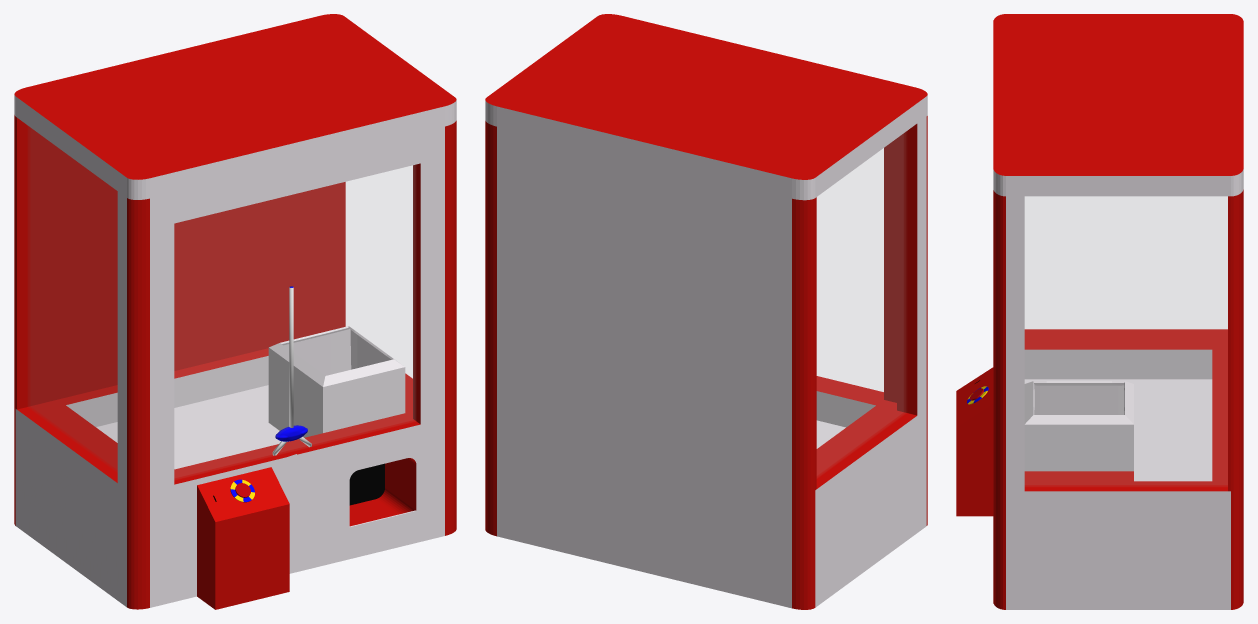
Rendered from Machine.fbx.
The picture shows the model from 3 angles, left to right: view 1: azimuth 30°, elevation 25°; view 2: azimuth 150°, elevation 25°; view 3: azimuth 270°, elevation 25°; orthographic projection.
Parts seen in each view (by area): view 1: Machine, Pince; view 2: Machine; view 3: Machine.
Boxes of the visible parts, <box> form: Machine: <box>14,14,456,609</box>; Pince: <box>272,286,307,455</box>; Machine: <box>485,14,927,609</box>; Machine: <box>956,14,1243,609</box>.
Size of the model in its own units: 200 by 250 by 150.
